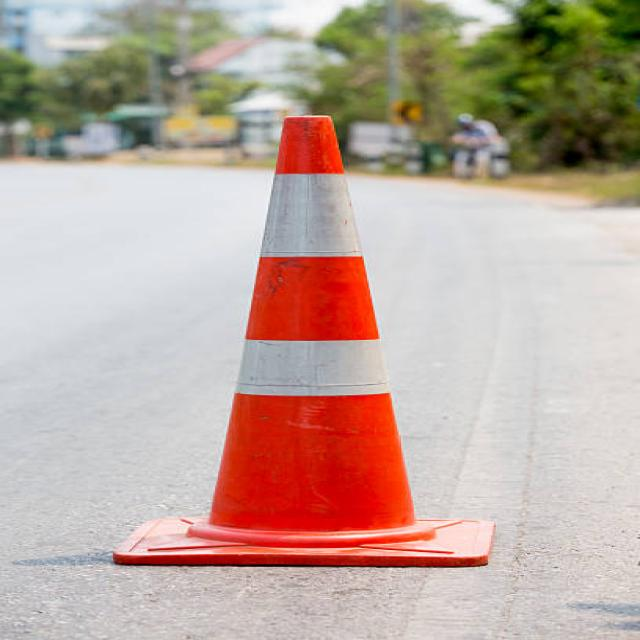Traffic Cone: (76, 66, 544, 603)
